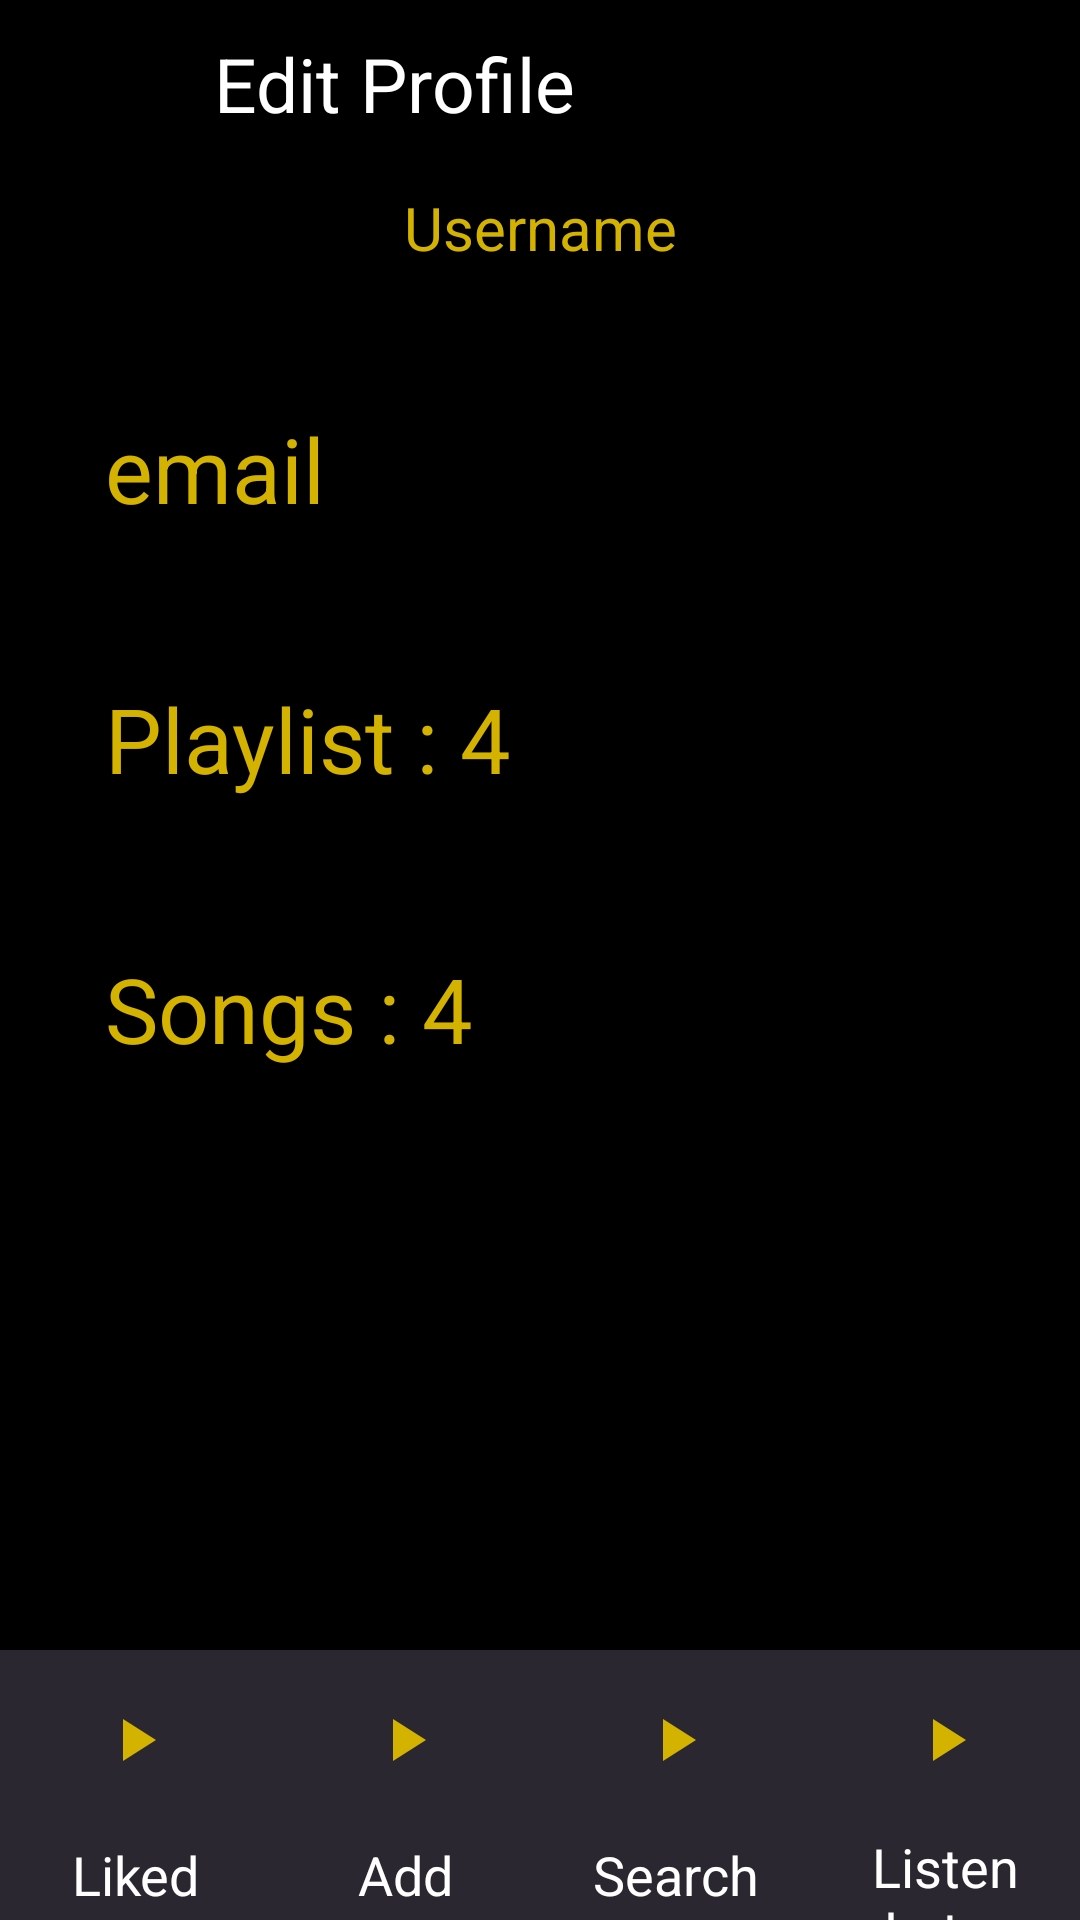

Icons on this 1080px x 1920px Android screen, each with its box as (x1, y1, x2, y2):
playbtn: (123, 1719, 156, 1761), (393, 1719, 426, 1761), (663, 1719, 696, 1761), (933, 1719, 966, 1761)
